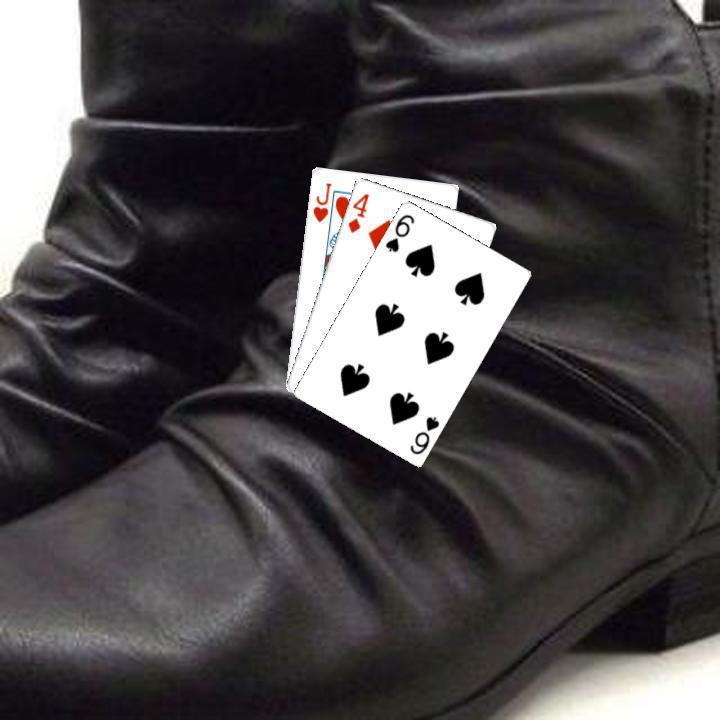4: (343, 188, 371, 235)
6: (381, 209, 417, 254), (405, 411, 441, 456)
J: (308, 178, 333, 224)
